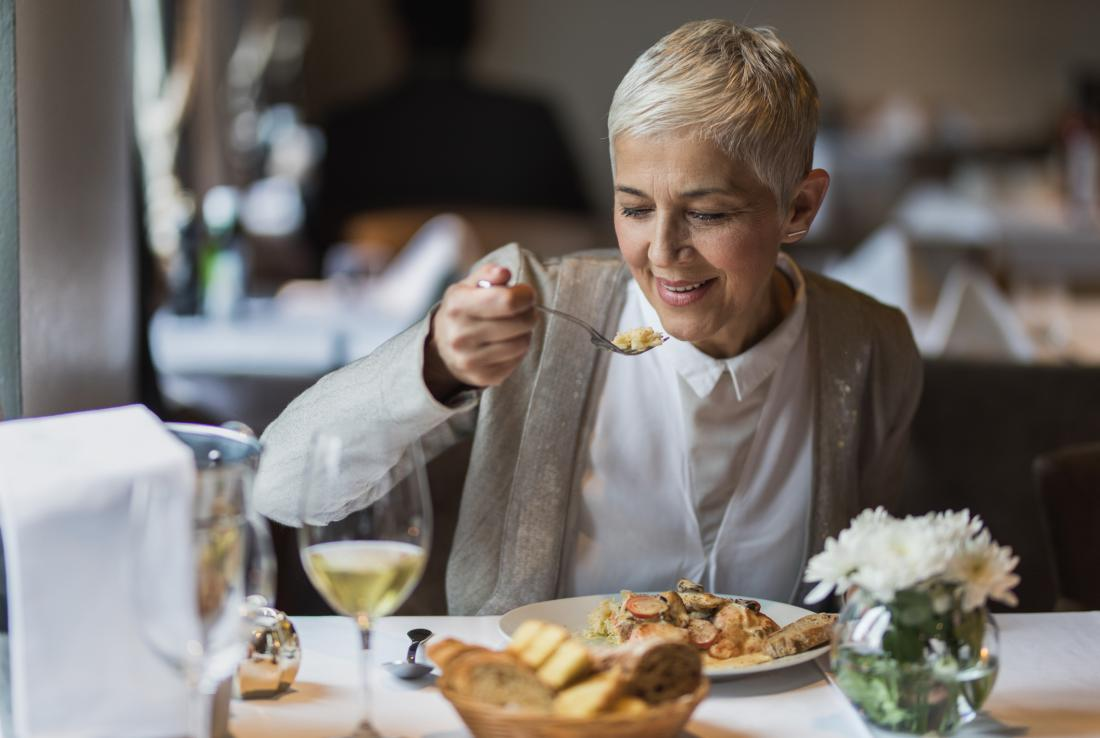eating: (453, 19, 1019, 462)
